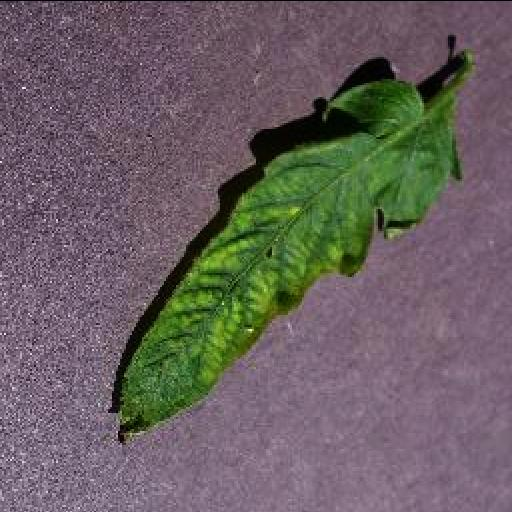Mosaic Virus: (109, 77, 463, 447)
